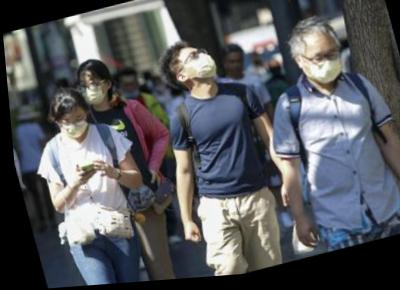NONE: (224, 57, 246, 81)
OK: (300, 46, 347, 94), (177, 48, 218, 88), (55, 109, 91, 143), (77, 76, 108, 110)
WRONG: (118, 80, 141, 104)
